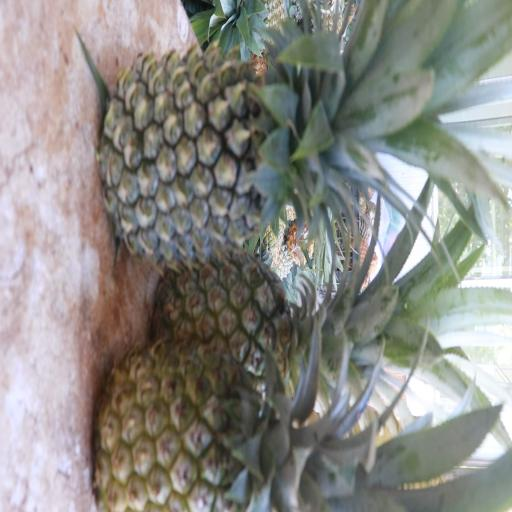------------------------------: (88, 343, 432, 512), (146, 245, 384, 412)
